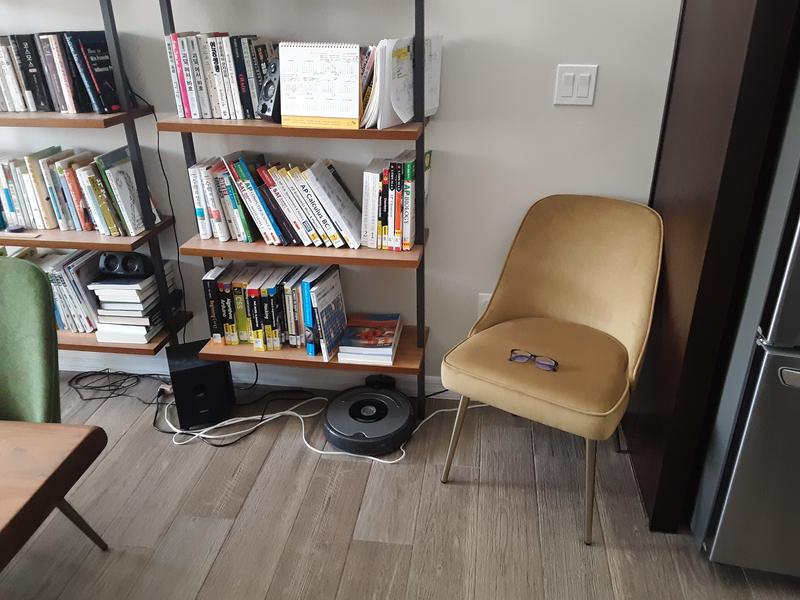glasses: (508, 347, 559, 375)
